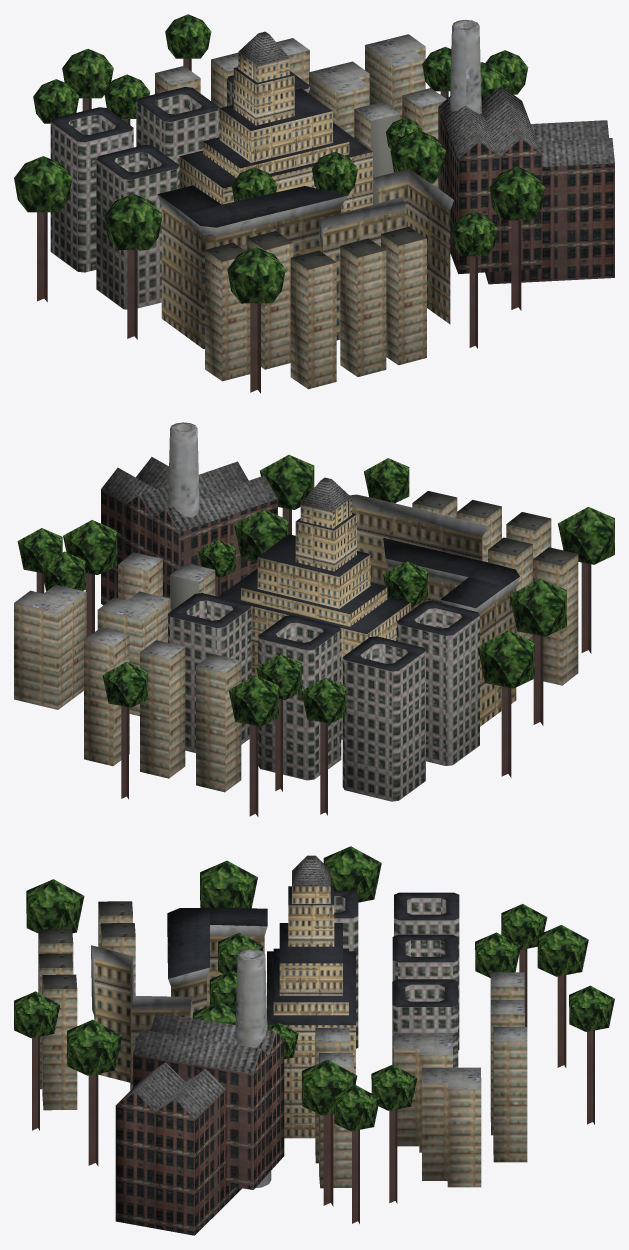
File: city_modern_1.glb
The picture shows the model from 3 angles, top to bottom: view 1: azimuth 30°, elevation 25°; view 2: azimuth 150°, elevation 25°; view 3: azimuth 270°, elevation 25°; orthographic projection.
Visible parts, largest first — view 1: ModernCity_Tier2; view 2: ModernCity_Tier2; view 3: ModernCity_Tier2.
Boxes of the visible parts, x1,y1,x2,y2 form: ModernCity_Tier2: [14, 14, 614, 393]; ModernCity_Tier2: [14, 422, 614, 816]; ModernCity_Tier2: [14, 846, 614, 1235].
Size of the model in its own units: 3.39 by 1.5 by 3.41.
Materials: 1 (1 with a texture image).
